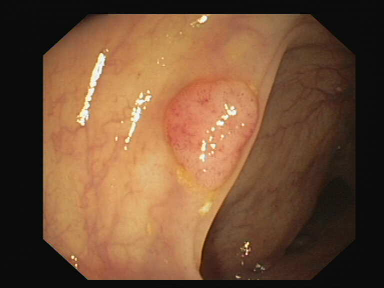polyp: (152, 51, 272, 226)
